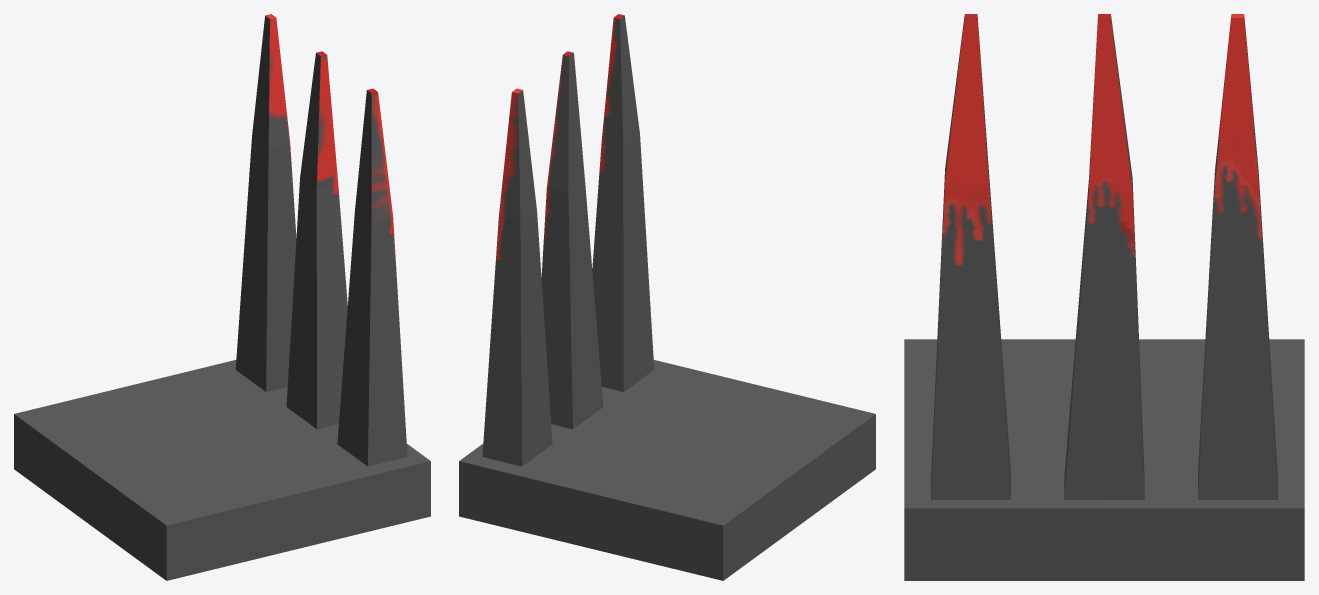
The model's file is SpikeTrap.fbx.
3 views of the same model, side by side, from view 1: azimuth 30°, elevation 25°; view 2: azimuth 150°, elevation 25°; view 3: azimuth 270°, elevation 25° (orthographic). The views are drawn at different scales.
Visible parts, largest first — view 1: Cube; view 2: Cube; view 3: Cube.
Part boxes in pixels (x1,y1,x2,y2): Cube: (14, 14, 430, 580); Cube: (459, 14, 875, 580); Cube: (904, 14, 1304, 580).
Size of the model in its own units: 100 by 150 by 100.
